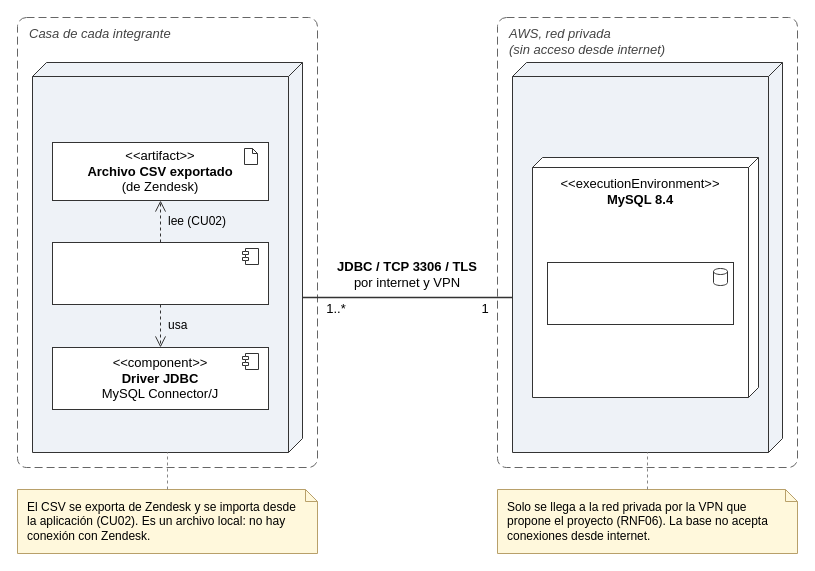
The diagram is 815 pixels wide and 571 high, and some of its shapes have lost their labels. The box of each missing label's shape, as (x1, y1, x2, y2) in pixels:
<<component>> Aplicación de soporte (Java 21, Swing): (52, 242, 268, 304)
<<database>> Base gestion_soporte: (546, 262, 734, 324)
<<device>> Estación de trabajo del integrante (una por integrante, remota): (32, 62, 302, 452)
<<device>> Servidor de base de datos (AWS, red privada): (512, 62, 782, 452)
